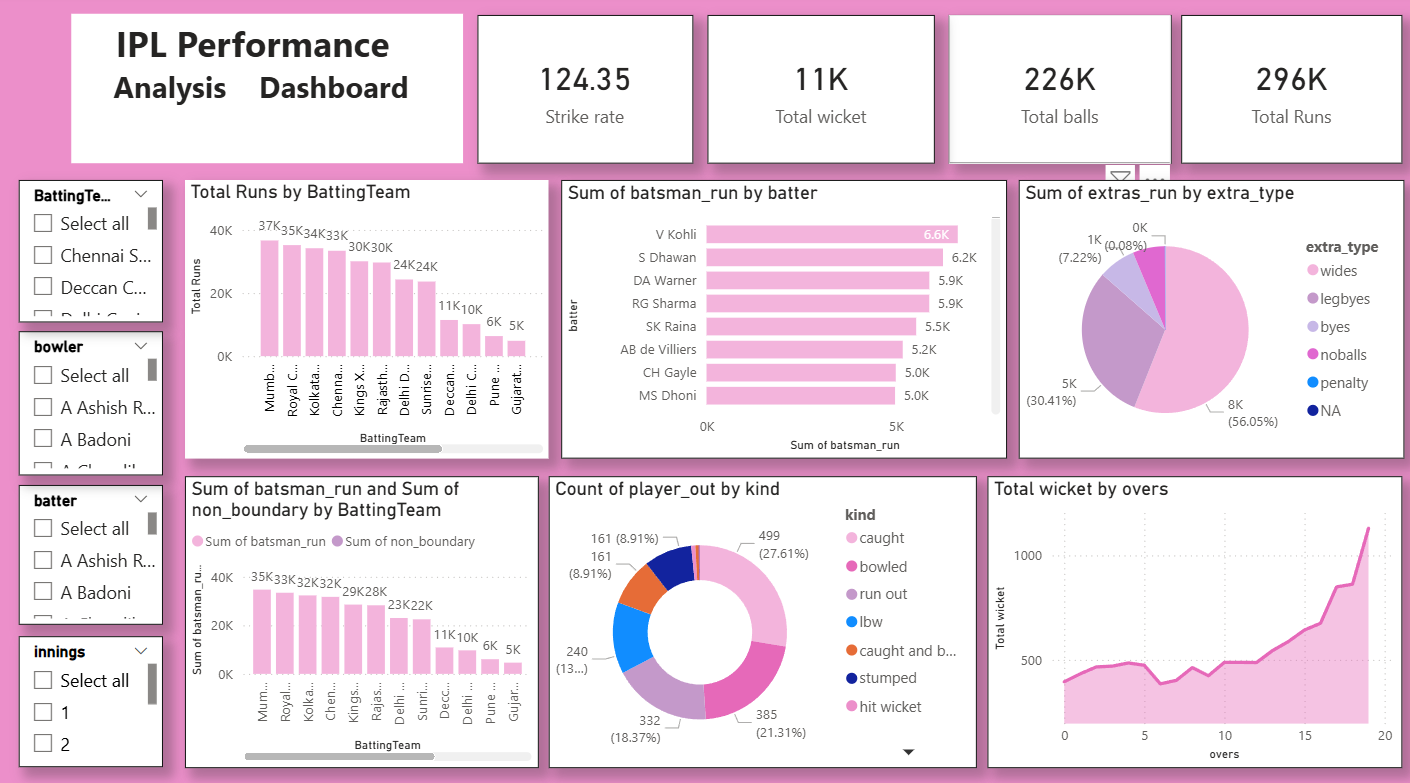

What the dashboard file says about the page in this screenshot:
{"tool":"powerbi","page":{"name":"Page 1","canvas":[1280,720],"ordinal":0},"visuals":[{"type":"card","fields":{"Values":["IPL_Ball_by_Ball_2008_2022.Strike rate"]},"box":[432.2,17.8,194.9,134.5],"z":0},{"type":"card","fields":{"Values":["IPL_Ball_by_Ball_2008_2022.Total balls"]},"box":[857.6,17.8,201.7,134.5],"z":1000},{"type":"card","fields":{"Values":["IPL_Ball_by_Ball_2008_2022.Total Runs"]},"box":[1069,17.8,200.3,134.5],"z":2000},{"type":"card","fields":{"Values":["IPL_Ball_by_Ball_2008_2022.Total wicket"]},"box":[639.5,17.8,205.8,134.5],"z":3000},{"type":"clusteredColumnChart","fields":{"Category":["IPL_Ball_by_Ball_2008_2022.BattingTeam"],"Y":["IPL_Ball_by_Ball_2008_2022.Total Runs"]},"box":[167.4,167.4,329.1,252.3],"z":4000},{"type":"barChart","fields":{"Category":["IPL_Ball_by_Ball_2008_2022.batter"],"Y":["Sum(IPL_Ball_by_Ball_2008_2022.batsman_run)"]},"box":[508.1,167.4,403.5,252.3],"z":5000},{"type":"pieChart","fields":{"Category":["IPL_Ball_by_Ball_2008_2022.extra_type"],"Y":["Sum(IPL_Ball_by_Ball_2008_2022.extras_run)"]},"box":[920.9,167.4,348.8,252.3],"z":6000},{"type":"columnChart","fields":{"Category":["IPL_Ball_by_Ball_2008_2022.BattingTeam"],"Y":["Sum(IPL_Ball_by_Ball_2008_2022.batsman_run)","Sum(IPL_Ball_by_Ball_2008_2022.non_boundary)"]},"box":[167.4,434.9,319.8,264],"z":7000},{"type":"donutChart","fields":{"Category":["IPL_Ball_by_Ball_2008_2022.kind"],"Y":["Count(IPL_Ball_by_Ball_2008_2022.player_out)"]},"box":[496.5,434.9,387.2,264],"z":8000},{"type":"slicer","fields":{"Values":["IPL_Ball_by_Ball_2008_2022.batter"]},"box":[17.4,443,130.2,126.7],"z":9000},{"type":"slicer","fields":{"Values":["IPL_Ball_by_Ball_2008_2022.bowler"]},"box":[17.4,304.7,130.2,130.2],"z":10000},{"type":"slicer","fields":{"Values":["IPL_Ball_by_Ball_2008_2022.innings"]},"box":[17.4,580.2,130.2,118.6],"z":11000},{"type":"slicer","fields":{"Values":["IPL_Ball_by_Ball_2008_2022.BattingTeam"]},"box":[17.4,167.4,130.2,129.1],"z":12000},{"type":"areaChart","fields":{"Category":["IPL_Ball_by_Ball_2008_2022.overs"],"Y":["IPL_Ball_by_Ball_2008_2022.Total wicket"]},"box":[893,434.9,375.6,264],"z":13000},{"type":"textbox","box":[64,17.4,354.7,134.9],"z":14000}]}

Visuals, with their boxes in screenshot pixels (x1, y1, x2, y2), scaled from the page's 1280x720 canvas onto the 1410x783 screenshot:
card - IPL_Ball_by_Ball_2008_2022.Strike rate: [left=476, top=19, right=691, bottom=166]
card - IPL_Ball_by_Ball_2008_2022.Total balls: [left=945, top=19, right=1167, bottom=166]
card - IPL_Ball_by_Ball_2008_2022.Total Runs: [left=1178, top=19, right=1398, bottom=166]
card - IPL_Ball_by_Ball_2008_2022.Total wicket: [left=704, top=19, right=931, bottom=166]
clusteredColumnChart - IPL_Ball_by_Ball_2008_2022.BattingTeam x IPL_Ball_by_Ball_2008_2022.Total Runs: [left=184, top=182, right=547, bottom=456]
barChart - IPL_Ball_by_Ball_2008_2022.batter x Sum(IPL_Ball_by_Ball_2008_2022.batsman_run): [left=560, top=182, right=1004, bottom=456]
pieChart - IPL_Ball_by_Ball_2008_2022.extra_type x Sum(IPL_Ball_by_Ball_2008_2022.extras_run): [left=1014, top=182, right=1399, bottom=456]
columnChart - IPL_Ball_by_Ball_2008_2022.BattingTeam x Sum(IPL_Ball_by_Ball_2008_2022.batsman_run): [left=184, top=473, right=537, bottom=760]
donutChart - IPL_Ball_by_Ball_2008_2022.kind x Count(IPL_Ball_by_Ball_2008_2022.player_out): [left=547, top=473, right=973, bottom=760]
slicer - IPL_Ball_by_Ball_2008_2022.batter: [left=19, top=482, right=163, bottom=620]
slicer - IPL_Ball_by_Ball_2008_2022.bowler: [left=19, top=331, right=163, bottom=473]
slicer - IPL_Ball_by_Ball_2008_2022.innings: [left=19, top=631, right=163, bottom=760]
slicer - IPL_Ball_by_Ball_2008_2022.BattingTeam: [left=19, top=182, right=163, bottom=322]
areaChart - IPL_Ball_by_Ball_2008_2022.overs x IPL_Ball_by_Ball_2008_2022.Total wicket: [left=984, top=473, right=1397, bottom=760]
textbox: [left=70, top=19, right=461, bottom=166]
